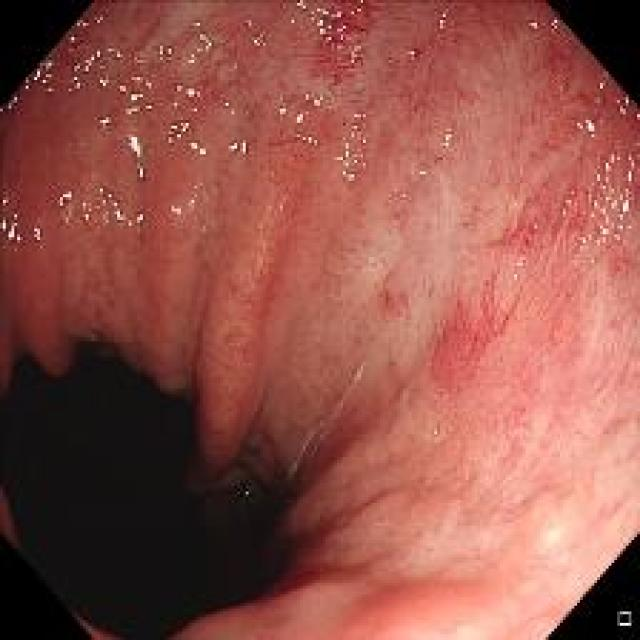contrast: (5, 325, 304, 624)
specularity: (9, 192, 198, 246), (275, 102, 358, 170), (584, 149, 638, 250), (96, 42, 150, 111), (304, 5, 365, 66), (68, 15, 101, 91), (9, 58, 55, 111), (342, 111, 369, 181), (511, 222, 538, 280), (124, 130, 150, 181), (166, 99, 195, 142), (188, 19, 214, 65), (98, 185, 125, 222), (434, 5, 460, 42), (576, 111, 601, 138), (301, 91, 331, 111), (225, 139, 250, 159), (1, 190, 11, 234), (174, 80, 199, 96), (155, 44, 174, 64), (188, 138, 206, 158), (441, 125, 454, 150), (250, 32, 269, 49), (291, 0, 309, 16), (615, 94, 630, 112), (598, 72, 609, 95), (404, 46, 418, 64), (559, 196, 571, 216), (526, 15, 539, 32), (550, 16, 560, 35), (222, 99, 236, 112), (99, 114, 112, 126), (242, 484, 254, 496), (579, 236, 588, 251), (418, 169, 430, 180), (245, 15, 255, 26)
